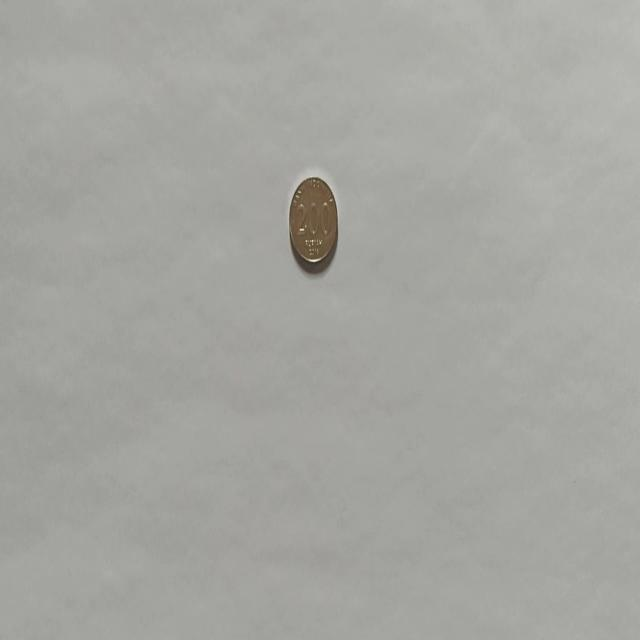dua ratus rupiah: (288, 174, 338, 267)
